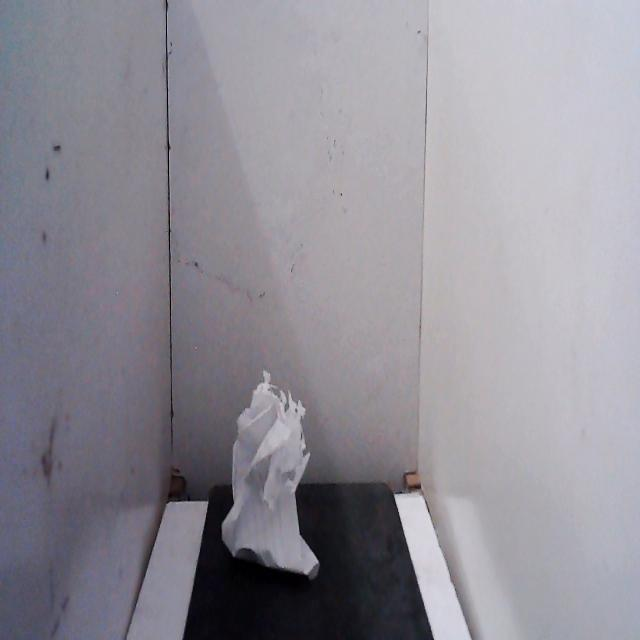papel: (218, 356, 322, 593)
